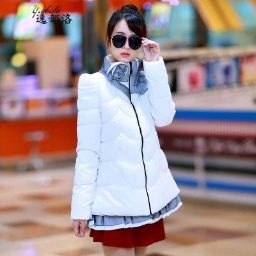face: (103, 5, 147, 64)
